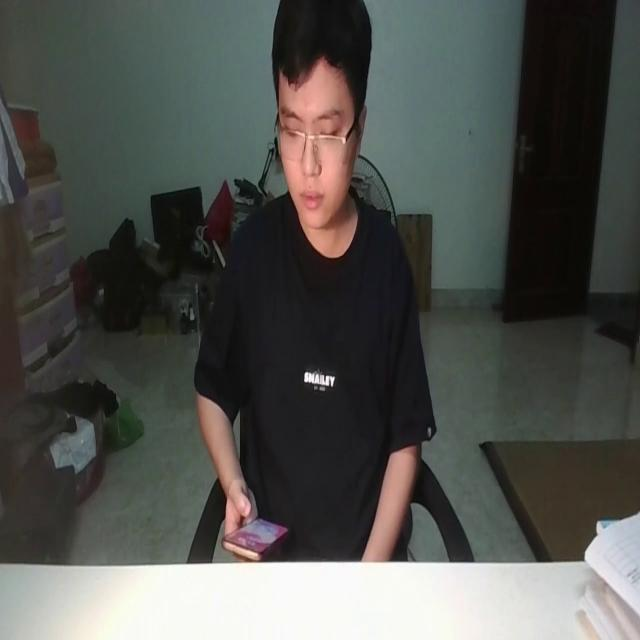phone: (222, 507, 287, 559)
student: (193, 0, 434, 574)
